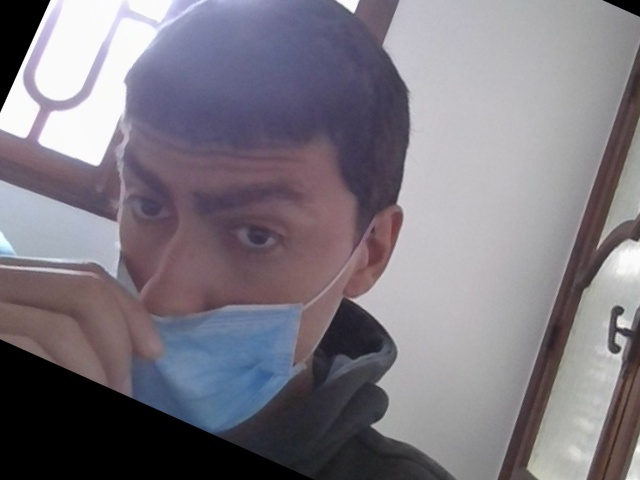mask_weared_incorrect: (96, 68, 353, 432)
